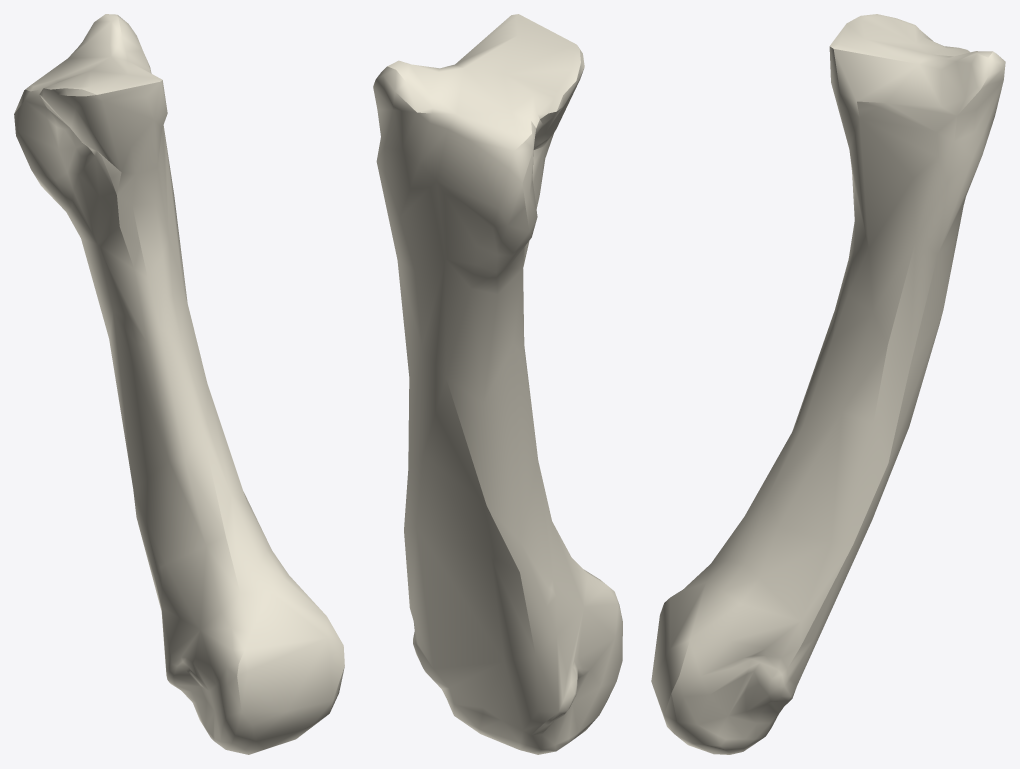
The model's file is fma24469_fj6357.glb.
3 views of the same model, side by side, from view 1: azimuth 30°, elevation 25°; view 2: azimuth 150°, elevation 25°; view 3: azimuth 270°, elevation 25° (orthographic). The views are drawn at different scales.
Parts seen in each view (by area): view 1: FMA24469_FJ6357; view 2: FMA24469_FJ6357; view 3: FMA24469_FJ6357.
Part boxes in pixels (<box>): FMA24469_FJ6357: <box>14,14,344,754</box>; FMA24469_FJ6357: <box>373,14,622,754</box>; FMA24469_FJ6357: <box>651,14,1005,754</box>.
Size of the model in its own units: 0.02 by 0.0644 by 0.0303.
